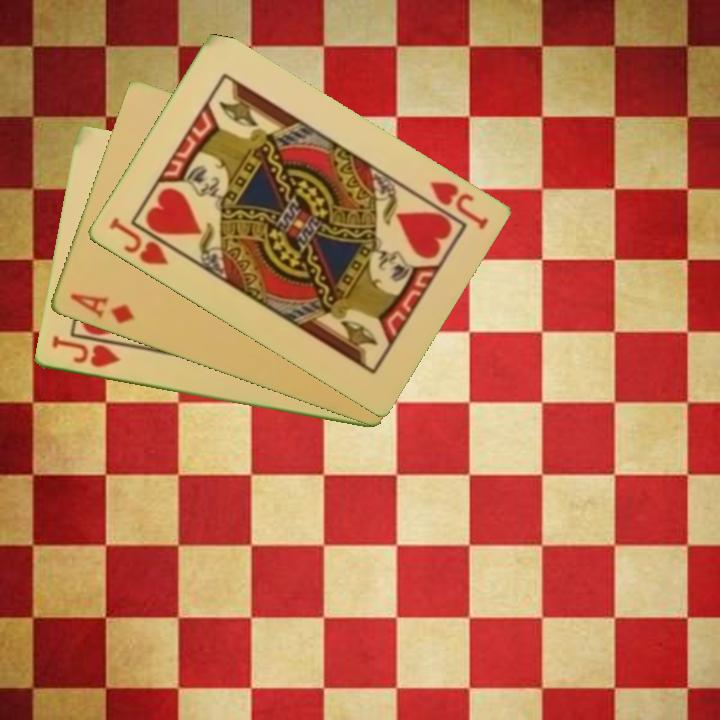Ad: (66, 289, 137, 328)
Jh: (425, 177, 491, 233), (104, 214, 171, 268), (48, 332, 123, 371)
